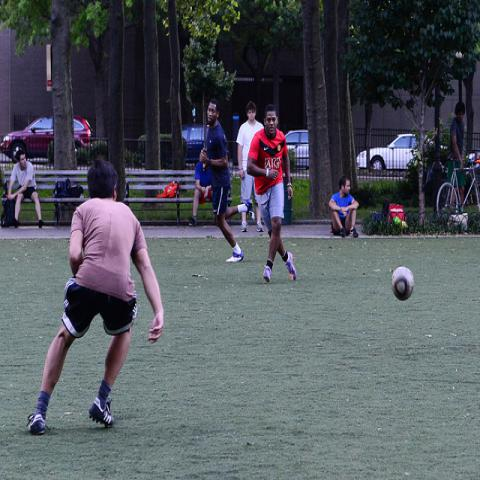car: (0, 115, 92, 159), (357, 133, 418, 170), (284, 129, 310, 167), (182, 127, 205, 159)
